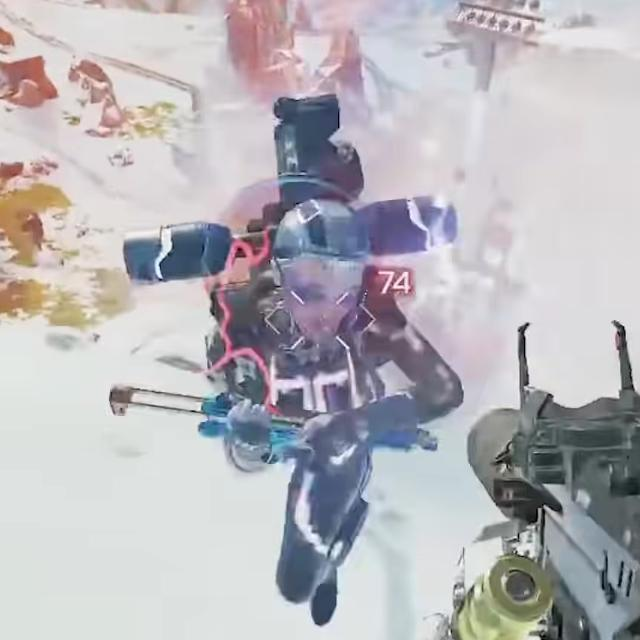avatar: (201, 191, 467, 627)
